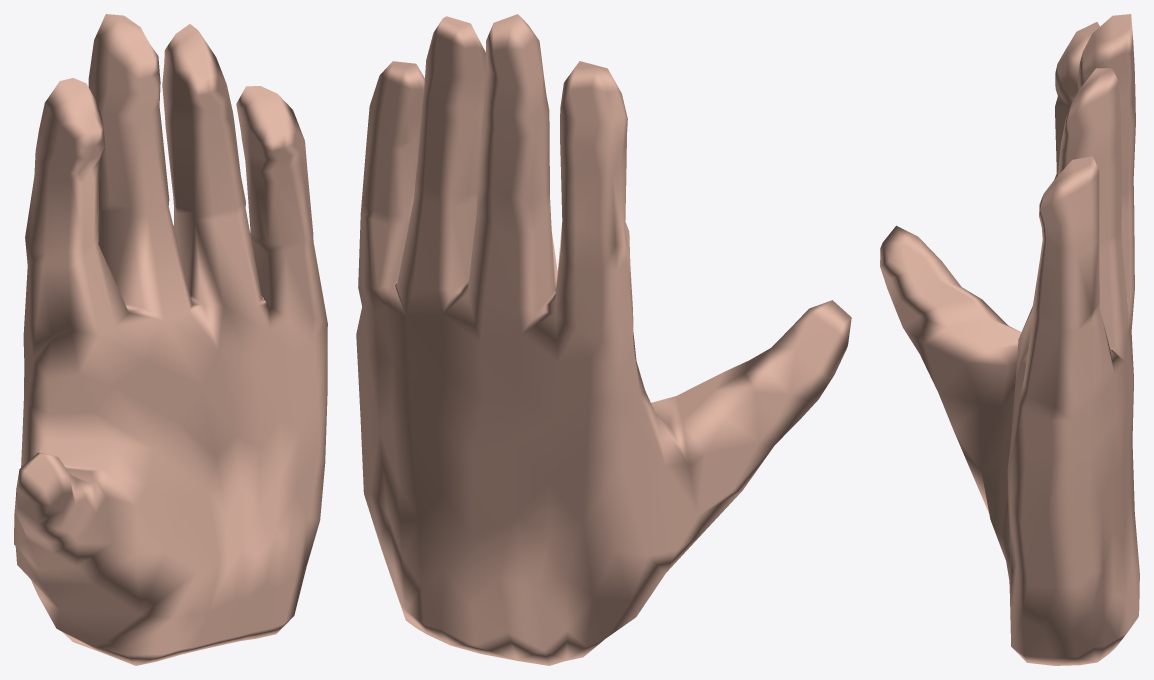
Rendered from MAO_ESTENDIDA_COM_POLEGAR.obj.
3 views of the same model, side by side, from view 1: azimuth 30°, elevation 25°; view 2: azimuth 150°, elevation 25°; view 3: azimuth 270°, elevation 25° (orthographic). The views are drawn at different scales.
Parts seen in each view (by area): view 1: mao_dir polySurface1; view 2: mao_dir polySurface1; view 3: mao_dir polySurface1.
Part boxes in pixels (x1,y1,x2,y2): mao_dir polySurface1: [14, 14, 327, 665]; mao_dir polySurface1: [356, 14, 851, 665]; mao_dir polySurface1: [880, 14, 1139, 665].
Size of the model in its own units: 159 by 243 by 96.16.
